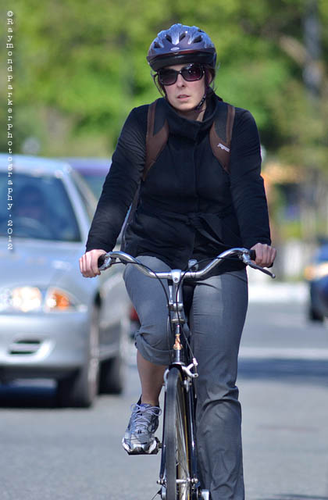bikerider: (72, 19, 285, 500)
